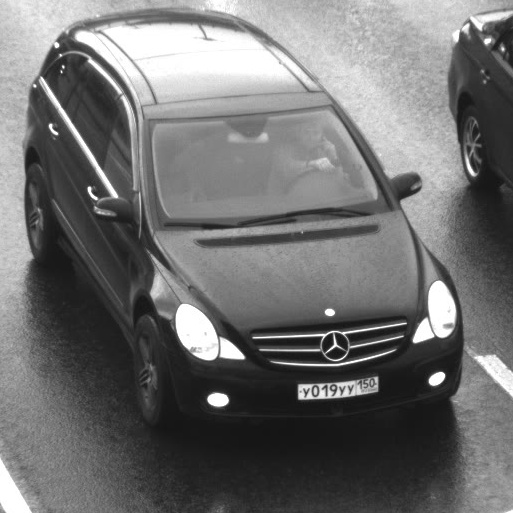plate: (287, 366, 387, 407)
